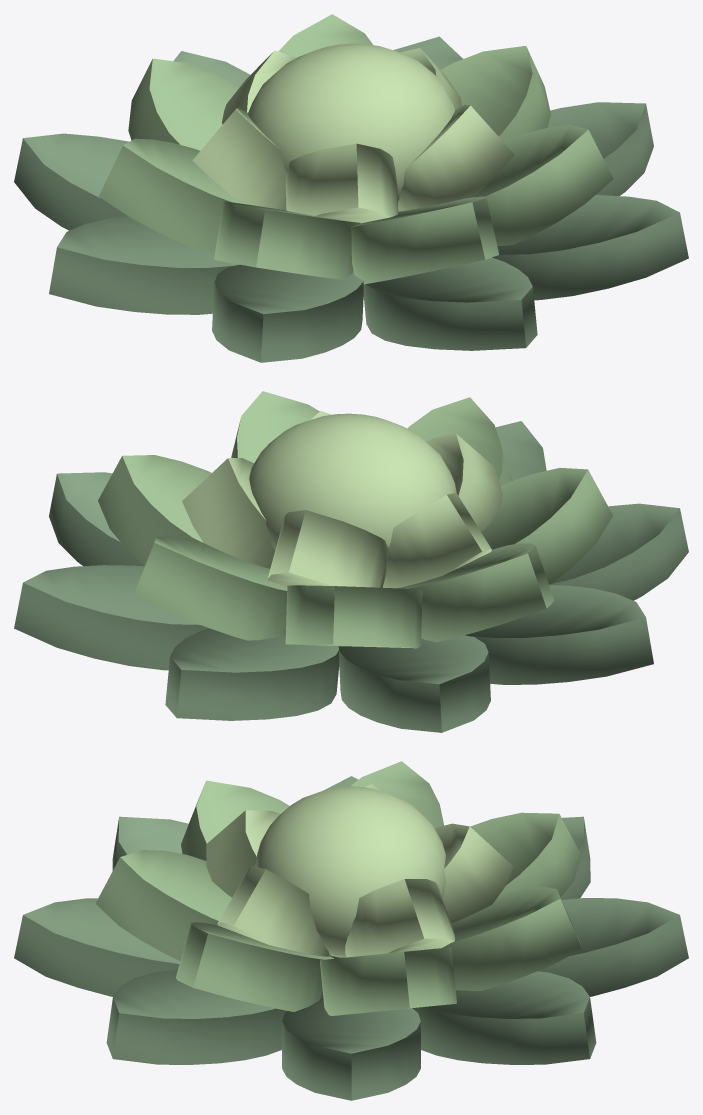
The model's file is WF_Quaternius_Lettuce_RoundPass02.fbx.
3 views of the same model, one above another, from view 1: azimuth 30°, elevation 25°; view 2: azimuth 150°, elevation 25°; view 3: azimuth 270°, elevation 25° (orthographic). The views are drawn at different scales.
Visible parts, largest first — view 1: WF_RoundPass01_Lettuce_Core, WF_RoundPass01_Lettuce_Leaf_0_6, WF_RoundPass01_Lettuce_Leaf_0_7, WF_RoundPass01_Lettuce_Leaf_0_4, WF_RoundPass01_Lettuce_Leaf_0_5, WF_RoundPass01_Lettuce_Leaf_1_6, WF_RoundPass01_Lettuce_Leaf_1_3, WF_RoundPass01_Lettuce_Leaf_1_5, WF_RoundPass01_Lettuce_Leaf_1_4, WF_RoundPass01_Lettuce_Leaf_0_3, WF_RoundPass01_Lettuce_Leaf_2_3, WF_RoundPass01_Lettuce_Leaf_1_2 (+9 smaller); view 2: WF_RoundPass01_Lettuce_Core, WF_RoundPass01_Lettuce_Leaf_0_2, WF_RoundPass01_Lettuce_Leaf_0_1, WF_RoundPass01_Lettuce_Leaf_0_4, WF_RoundPass01_Lettuce_Leaf_0_3, WF_RoundPass01_Lettuce_Leaf_1_1, WF_RoundPass01_Lettuce_Leaf_1_4, WF_RoundPass01_Lettuce_Leaf_1_3, WF_RoundPass01_Lettuce_Leaf_1_2, WF_RoundPass01_Lettuce_Leaf_0_5, WF_RoundPass01_Lettuce_Leaf_1_0, WF_RoundPass01_Lettuce_Leaf_2_1 (+7 smaller); view 3: WF_RoundPass01_Lettuce_Core, WF_RoundPass01_Lettuce_Leaf_0_1, WF_RoundPass01_Lettuce_Leaf_0_7, WF_RoundPass01_Lettuce_Leaf_0_0, WF_RoundPass01_Lettuce_Leaf_0_6, WF_RoundPass01_Lettuce_Leaf_1_1, WF_RoundPass01_Lettuce_Leaf_0_2, WF_RoundPass01_Lettuce_Leaf_1_5, WF_RoundPass01_Lettuce_Leaf_1_6, WF_RoundPass01_Lettuce_Leaf_1_0, WF_RoundPass01_Lettuce_Leaf_2_0, WF_RoundPass01_Lettuce_Leaf_1_2 (+7 smaller).
Boxes of the visible parts, left/top/right/bottom form: WF_RoundPass01_Lettuce_Core: left=248, top=43, right=454, bottom=200; WF_RoundPass01_Lettuce_Leaf_0_6: left=363, top=257, right=537, bottom=350; WF_RoundPass01_Lettuce_Leaf_0_7: left=492, top=195, right=688, bottom=300; WF_RoundPass01_Lettuce_Leaf_0_4: left=49, top=216, right=239, bottom=314; WF_RoundPass01_Lettuce_Leaf_0_5: left=212, top=264, right=363, bottom=362; WF_RoundPass01_Lettuce_Leaf_1_6: left=474, top=125, right=613, bottom=246; WF_RoundPass01_Lettuce_Leaf_1_3: left=99, top=138, right=248, bottom=252; WF_RoundPass01_Lettuce_Leaf_1_5: left=351, top=196, right=499, bottom=284; WF_RoundPass01_Lettuce_Leaf_1_4: left=214, top=201, right=360, bottom=279; WF_RoundPass01_Lettuce_Leaf_0_3: left=14, top=133, right=129, bottom=230; WF_RoundPass01_Lettuce_Leaf_2_3: left=285, top=143, right=398, bottom=223; WF_RoundPass01_Lettuce_Leaf_1_2: left=128, top=58, right=238, bottom=150; WF_RoundPass01_Lettuce_Core: left=249, top=413, right=456, bottom=549; WF_RoundPass01_Lettuce_Leaf_0_2: left=165, top=628, right=339, bottom=720; WF_RoundPass01_Lettuce_Leaf_0_1: left=14, top=565, right=208, bottom=670; WF_RoundPass01_Lettuce_Leaf_0_4: left=465, top=585, right=653, bottom=684; WF_RoundPass01_Lettuce_Leaf_0_3: left=338, top=635, right=490, bottom=732; WF_RoundPass01_Lettuce_Leaf_1_1: left=133, top=536, right=287, bottom=640; WF_RoundPass01_Lettuce_Leaf_1_4: left=481, top=468, right=612, bottom=584; WF_RoundPass01_Lettuce_Leaf_1_3: left=398, top=543, right=554, bottom=641; WF_RoundPass01_Lettuce_Leaf_1_2: left=285, top=585, right=422, bottom=648; WF_RoundPass01_Lettuce_Leaf_0_5: left=549, top=503, right=688, bottom=600; WF_RoundPass01_Lettuce_Leaf_1_0: left=98, top=455, right=211, bottom=565; WF_RoundPass01_Lettuce_Leaf_2_1: left=267, top=510, right=388, bottom=587; WF_RoundPass01_Lettuce_Core: left=255, top=786, right=445, bottom=957; WF_RoundPass01_Lettuce_Leaf_0_1: left=412, top=971, right=596, bottom=1064; WF_RoundPass01_Lettuce_Leaf_0_7: left=106, top=969, right=286, bottom=1064; WF_RoundPass01_Lettuce_Leaf_0_0: left=282, top=996, right=420, bottom=1100; WF_RoundPass01_Lettuce_Leaf_0_6: left=14, top=898, right=180, bottom=996; WF_RoundPass01_Lettuce_Leaf_1_1: left=442, top=887, right=582, bottom=990; WF_RoundPass01_Lettuce_Leaf_0_2: left=538, top=898, right=688, bottom=996; WF_RoundPass01_Lettuce_Leaf_1_5: left=95, top=850, right=231, bottom=960; WF_RoundPass01_Lettuce_Leaf_1_6: left=176, top=922, right=333, bottom=1011; WF_RoundPass01_Lettuce_Leaf_1_0: left=320, top=947, right=456, bottom=1015; WF_RoundPass01_Lettuce_Leaf_2_0: left=345, top=879, right=454, bottom=957; WF_RoundPass01_Lettuce_Leaf_1_2: left=470, top=812, right=581, bottom=897.
Size of the model in its own units: 83.21 by 27.59 by 83.21.
